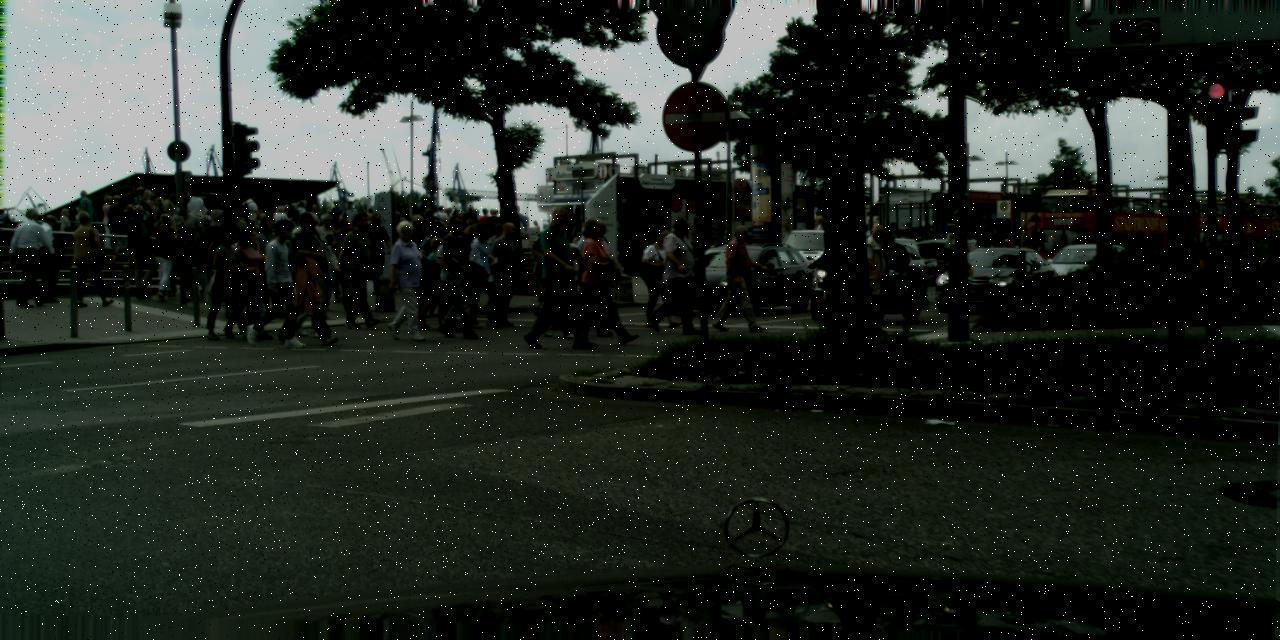ped: (530, 206, 588, 348), (281, 211, 333, 341), (251, 218, 303, 346), (572, 216, 624, 342), (432, 214, 483, 338), (287, 214, 337, 336), (381, 219, 430, 340), (216, 202, 264, 322), (533, 222, 581, 337), (652, 215, 699, 331), (339, 212, 386, 328), (206, 225, 252, 339), (226, 228, 270, 338), (854, 223, 898, 331), (718, 225, 762, 332), (580, 220, 623, 328), (462, 221, 504, 327), (12, 206, 54, 308), (572, 231, 613, 334), (640, 228, 680, 328), (430, 227, 470, 327), (488, 222, 528, 322), (411, 220, 450, 318), (167, 202, 206, 300), (250, 216, 289, 313), (70, 211, 108, 306), (478, 222, 516, 316), (122, 205, 160, 298), (208, 213, 245, 306), (322, 219, 358, 309), (310, 213, 346, 299), (32, 214, 67, 301), (418, 239, 453, 324), (147, 213, 182, 298), (360, 213, 392, 293), (190, 216, 220, 293), (246, 239, 276, 313), (878, 231, 908, 305), (816, 238, 843, 308), (404, 214, 430, 279), (113, 204, 139, 268), (156, 186, 181, 249), (127, 186, 152, 248), (180, 188, 204, 249), (135, 190, 159, 250), (116, 185, 140, 244), (452, 230, 475, 286), (74, 189, 95, 244), (239, 192, 260, 244), (105, 196, 126, 246), (98, 196, 118, 247), (149, 197, 169, 245), (208, 203, 226, 250), (981, 238, 999, 282), (510, 205, 528, 249), (291, 200, 309, 244), (341, 201, 358, 244), (970, 239, 987, 280), (532, 234, 548, 275), (272, 205, 288, 245), (70, 207, 86, 245), (486, 207, 501, 247), (57, 208, 72, 248), (422, 208, 437, 245), (307, 203, 322, 239), (329, 200, 343, 238), (462, 207, 476, 244), (286, 204, 300, 240), (388, 210, 402, 245), (400, 215, 414, 250), (277, 204, 291, 238), (886, 220, 899, 252), (478, 208, 491, 240), (434, 205, 446, 237), (254, 208, 266, 240), (258, 213, 270, 244), (564, 213, 576, 243), (530, 220, 541, 248), (913, 236, 924, 263), (365, 207, 376, 233), (290, 204, 300, 232), (1019, 242, 1029, 269), (1024, 239, 1034, 265), (1031, 241, 1041, 266), (466, 226, 476, 251), (816, 220, 825, 242), (466, 213, 474, 234), (468, 206, 476, 226), (444, 208, 450, 222), (453, 208, 458, 222)
